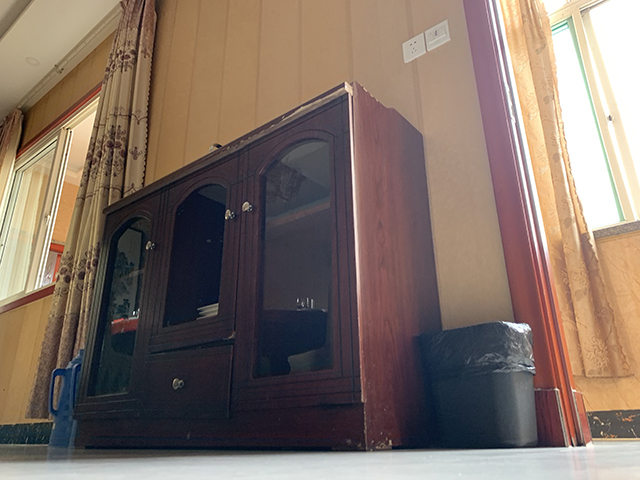cabinet: (71, 79, 445, 454)
curtain: (498, 1, 640, 380), (28, 4, 147, 419)
trashcan: (416, 319, 540, 449)
